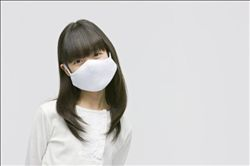face_mask: (70, 40, 111, 92)
